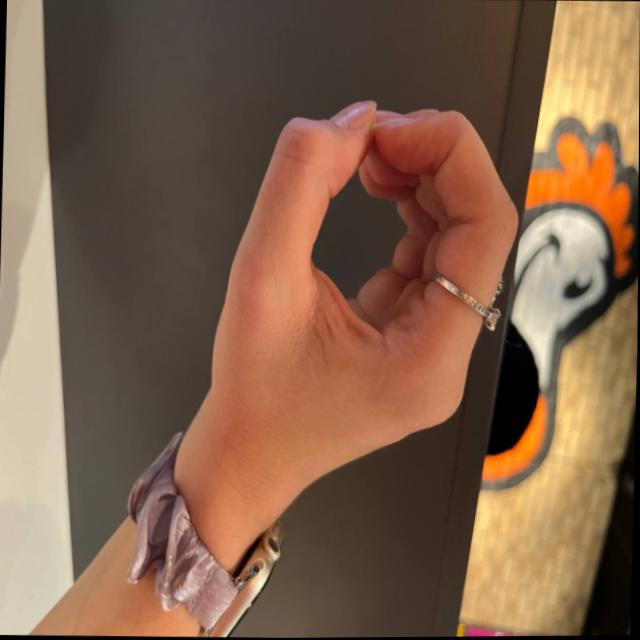e: (193, 57, 534, 487)
